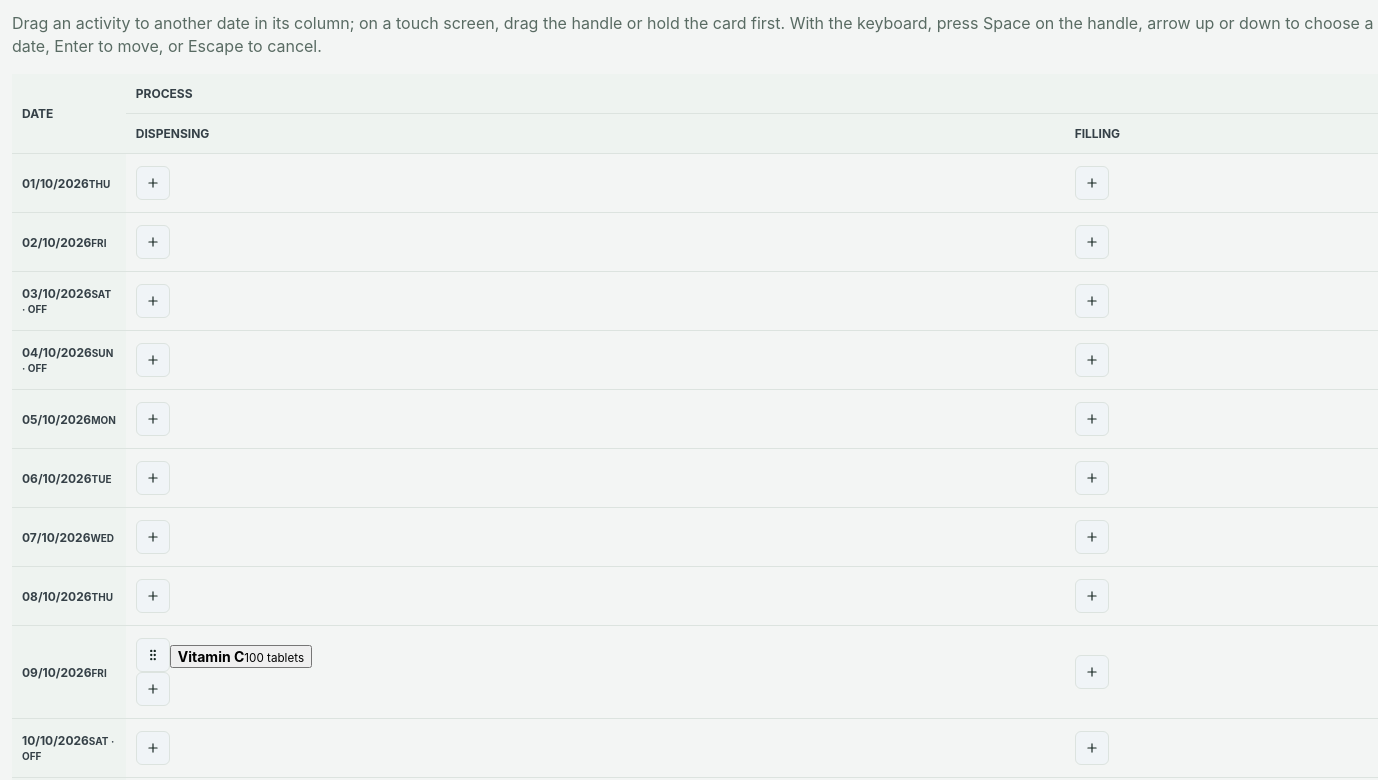
Test: dragging in the list view › refuses another process column and explains why
The width and height of the screenshot is (1378, 780).
Press the mouse on the element showing "Vitamin C100 tablets" at [224, 655], box [136,638,312,672]
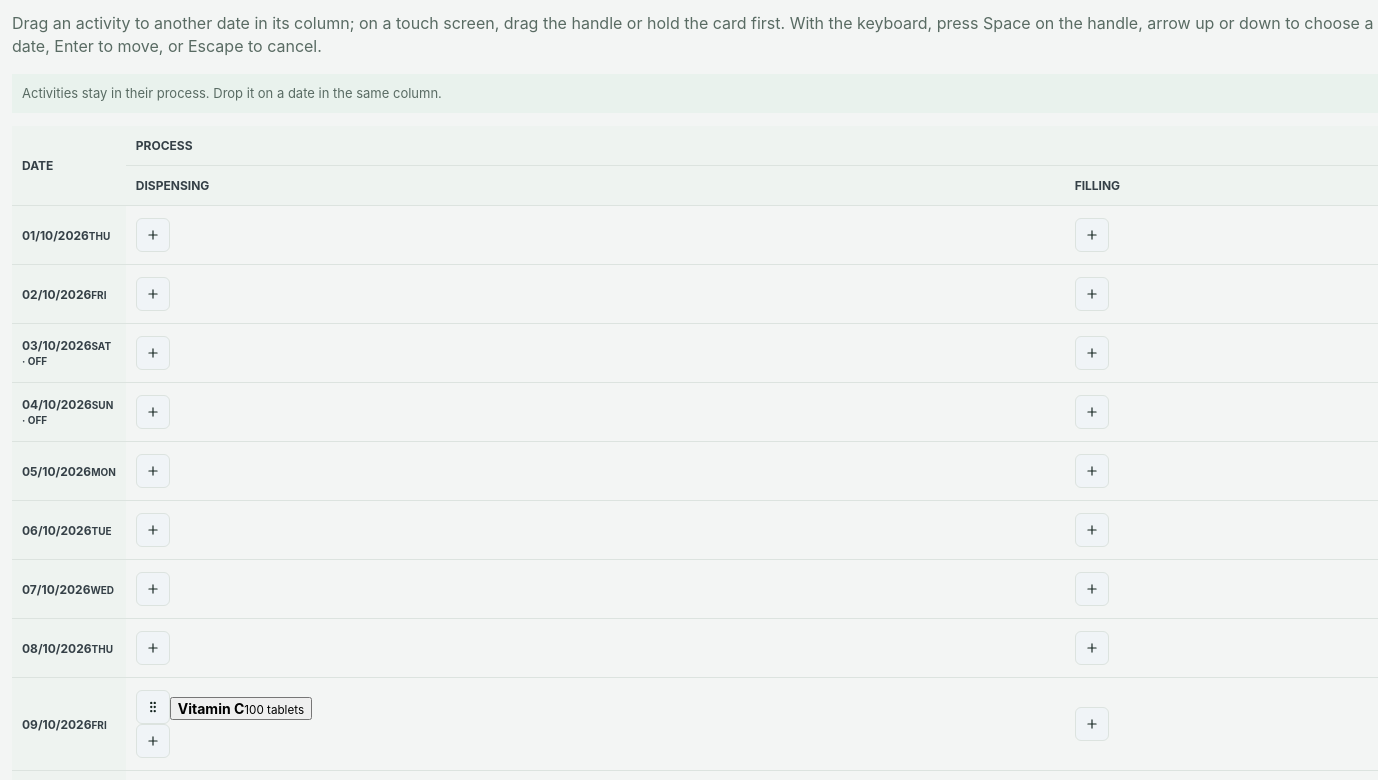
Expected: the text "Activities stay in their process" is shown, [22,85,442,101]
